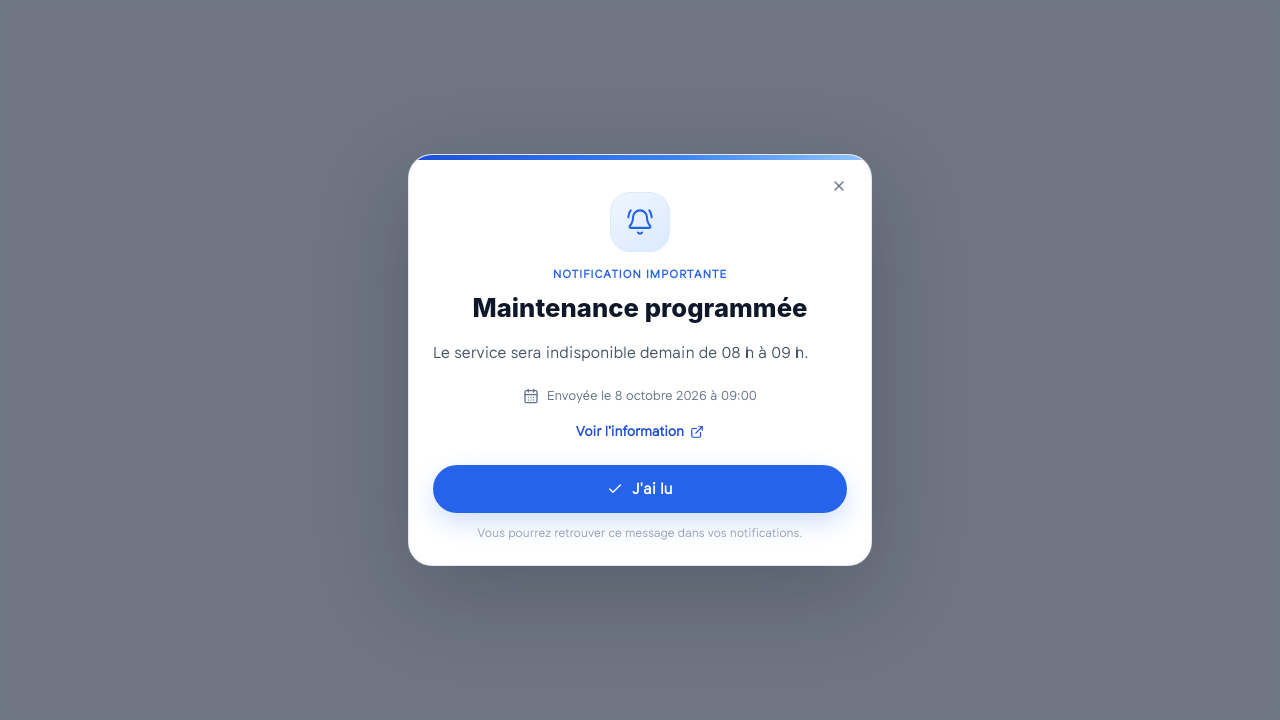
PersistentNotificationModal › keeps the notice open when the acknowledgement request fails
Click the button with test id "persistent-notification-confirm" at {"x": 640, "y": 489}, box [433,465,847,513]
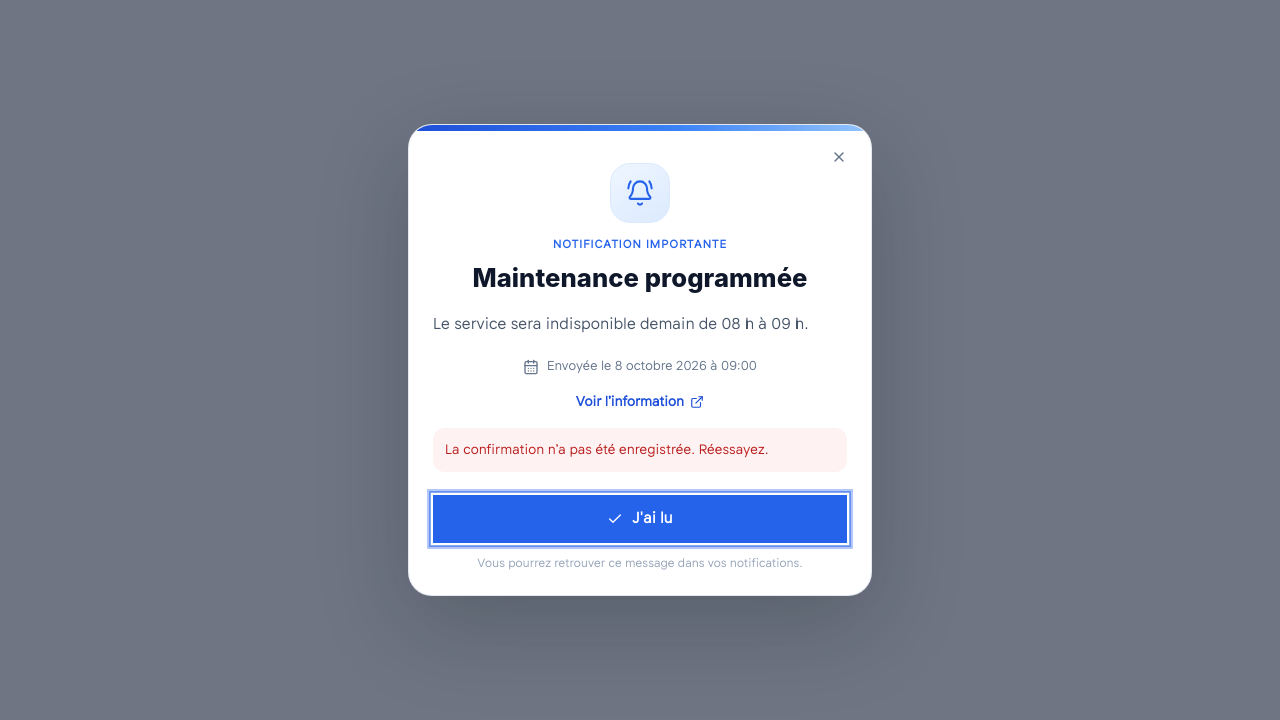
Check: the dialog is shown, box [408,124,872,596]
Check: the text "La confirmation n’a pas été enregistrée" is shown, box [445,440,769,459]
